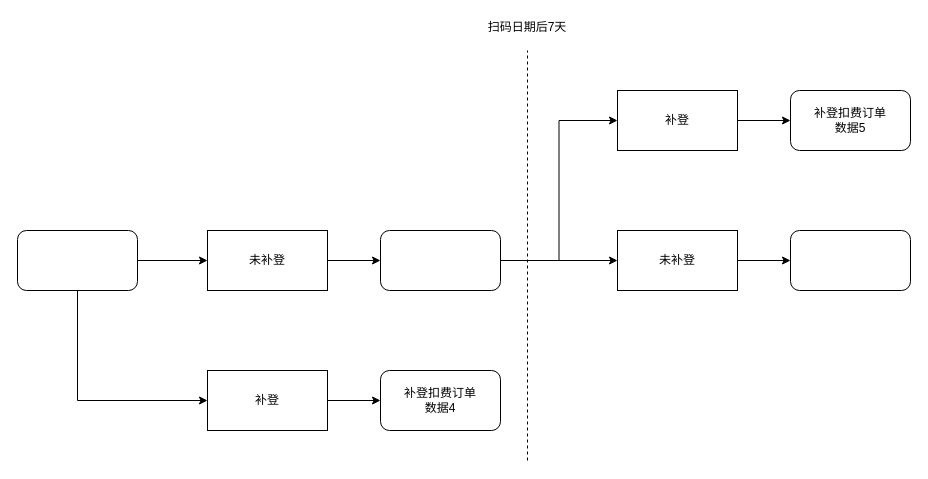
This 928x479 diagram has some shape labels left out. The box of each missing label's shape, as (x1, y1, x2, y2) in pixels:
单边行程 数据1: (16, 230, 138, 290)
单边订单 数据2: (790, 230, 910, 290)
单边赔付 数据3: (380, 230, 500, 290)
